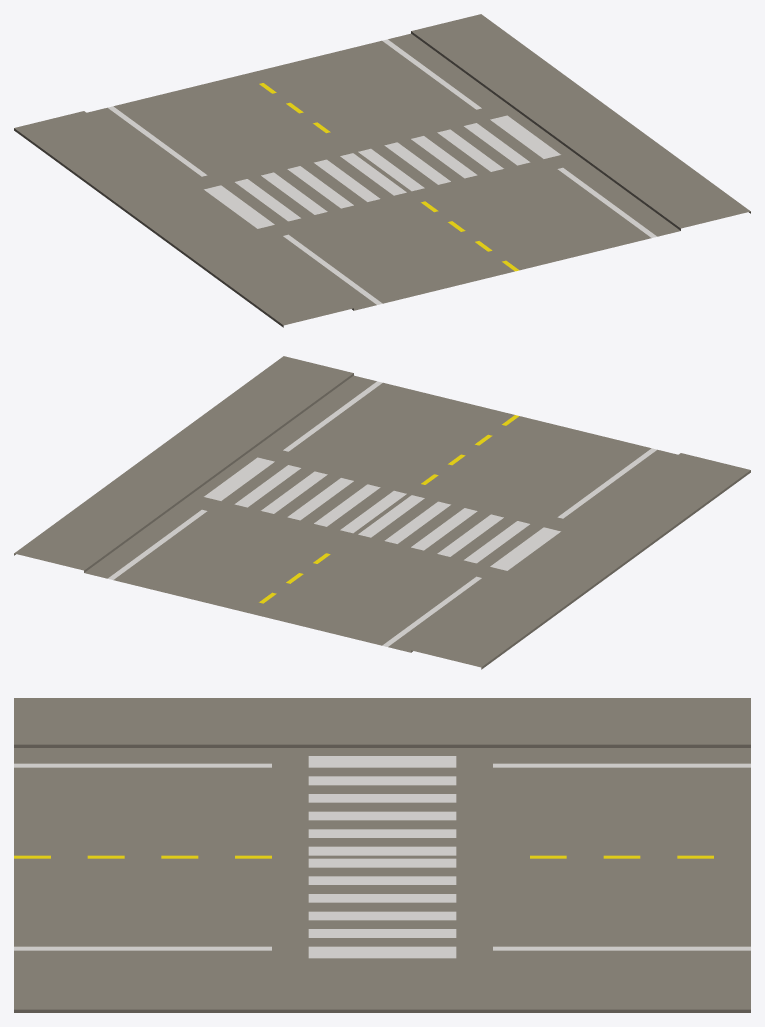
The model's file is straight_Walk.fbx.
The picture shows the model from 3 angles, top to bottom: view 1: azimuth 30°, elevation 25°; view 2: azimuth 150°, elevation 25°; view 3: azimuth 270°, elevation 25°; orthographic projection. The views are drawn at different scales.
Visible parts, largest first — view 1: Straight_Walk; view 2: Straight_Walk; view 3: Straight_Walk.
Part boxes in pixels (x1,y1,x2,y2): Straight_Walk: [14, 14, 750, 327]; Straight_Walk: [14, 356, 750, 669]; Straight_Walk: [14, 698, 750, 1012].
Bounding box in the file's own units: 20 × 0.1 × 20.
